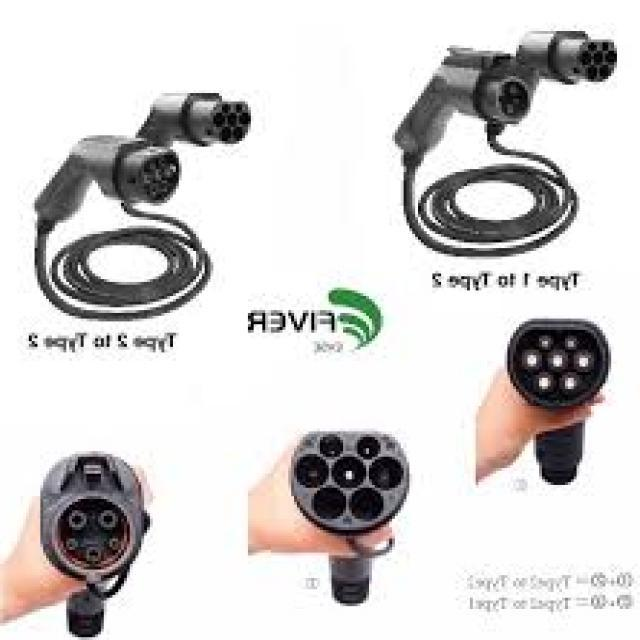Type 2: (274, 398, 442, 556), (485, 296, 624, 427)
